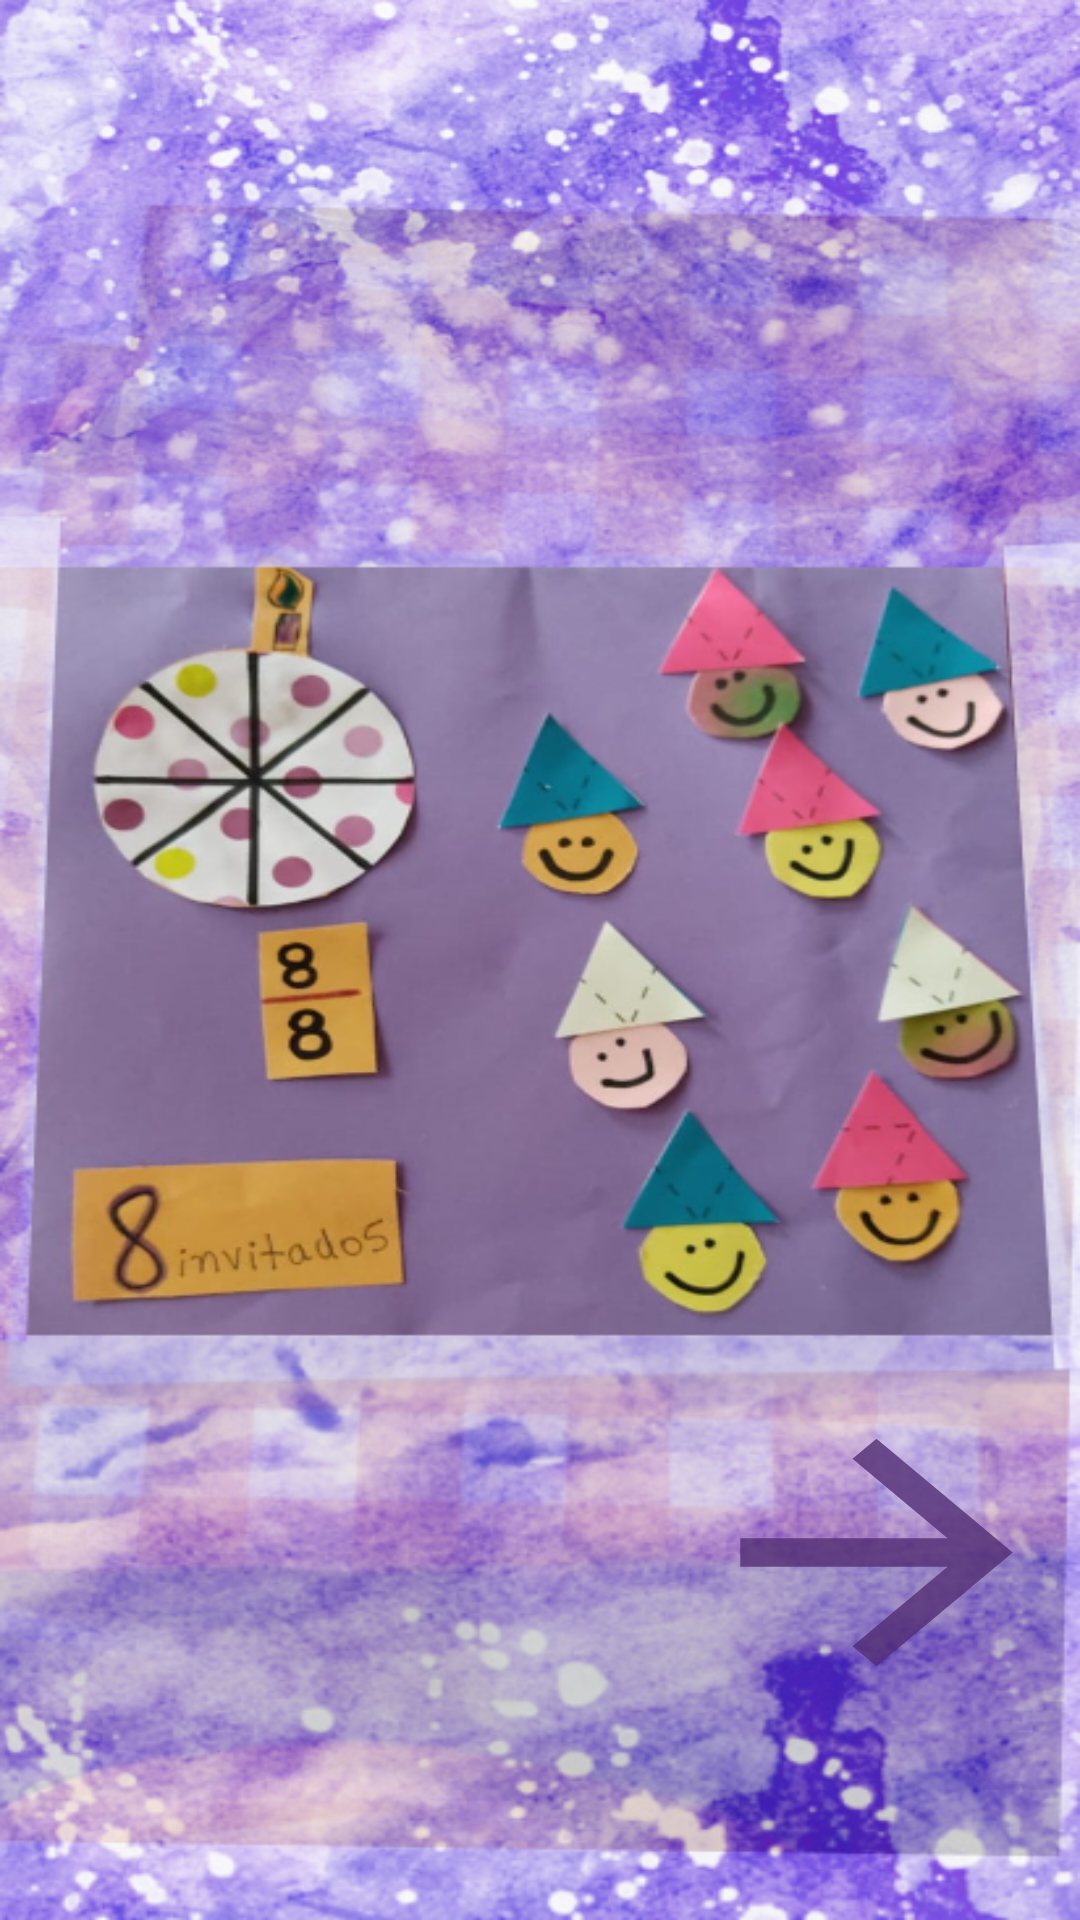

Named icons in this screenshot (1080w x 1920h) and their centers, [x,y]:
next page: [876,1552]
